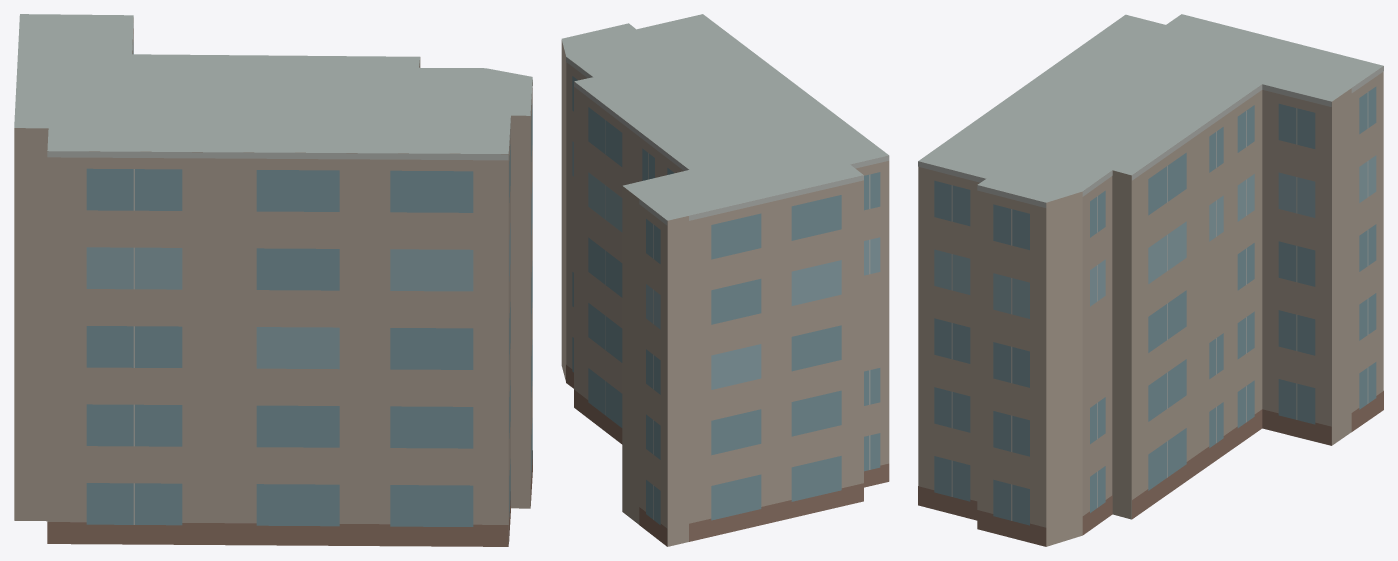
File: survey-upis-33016575.glb
The picture shows the model from 3 angles, left to right: view 1: azimuth 30°, elevation 25°; view 2: azimuth 150°, elevation 25°; view 3: azimuth 270°, elevation 25°; orthographic projection. The views are drawn at different scales.
Visible parts, largest first — view 1: survey-upis-33016575.tmp; view 2: survey-upis-33016575.tmp; view 3: survey-upis-33016575.tmp.
Part boxes in pixels (x1,y1,x2,y2): survey-upis-33016575.tmp: (14,14,532,546); survey-upis-33016575.tmp: (561,14,889,546); survey-upis-33016575.tmp: (918,14,1383,546).
Size of the model in its own units: 17.94 by 15.25 by 18.71.
